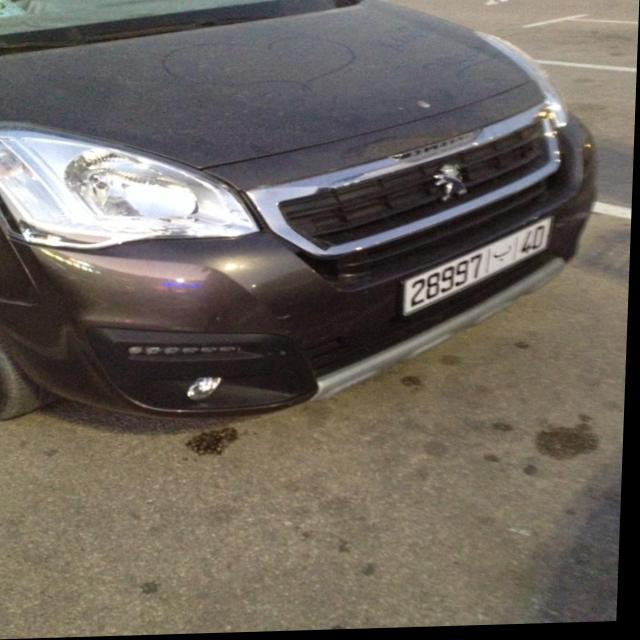License-Plate: (406, 221, 555, 317)
